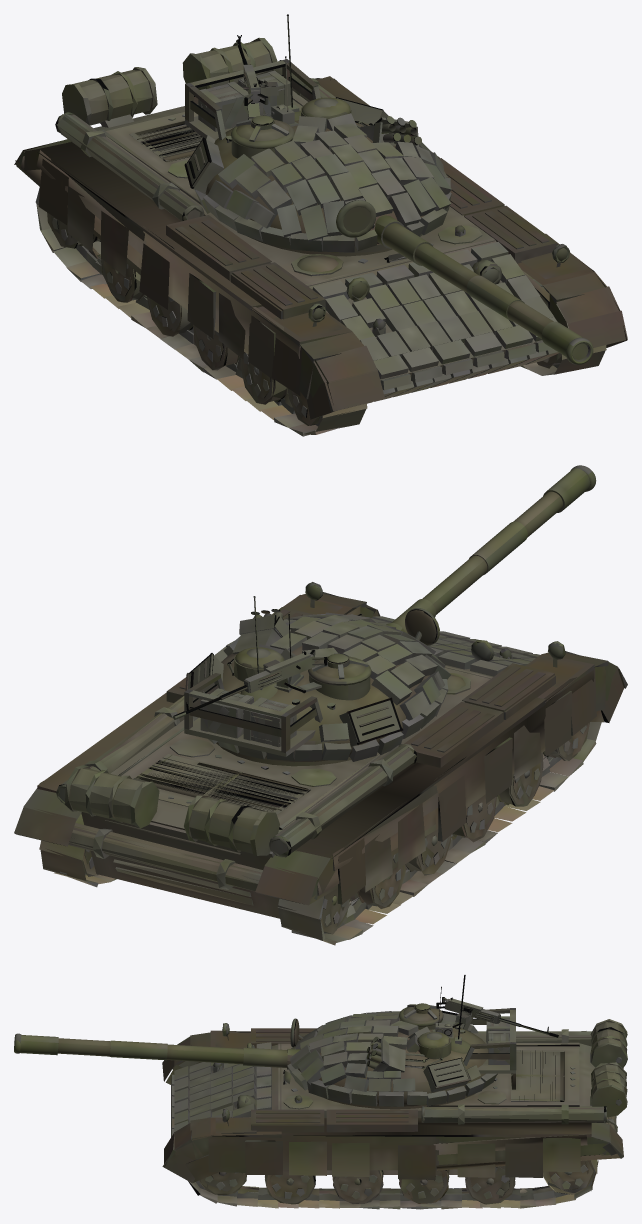
File: tank.glb
3 renders of one model, top to bottom at view 1: azimuth 30°, elevation 25°; view 2: azimuth 150°, elevation 25°; view 3: azimuth 270°, elevation 25°, orthographic. The views are drawn at different scales.
Visible parts, largest first — view 1: hull, turret; view 2: hull, turret; view 3: hull, turret.
Boxes of the visible parts, x1,y1,x2,y2 form: hull: [14, 14, 627, 436]; turret: [184, 16, 593, 364]; hull: [14, 582, 627, 945]; turret: [173, 465, 596, 766]; hull: [162, 975, 627, 1209]; turret: [14, 976, 559, 1109].
Bounding box in the file's own units: 3.6 × 3.02 × 8.78.
1 material, 1 textured.
